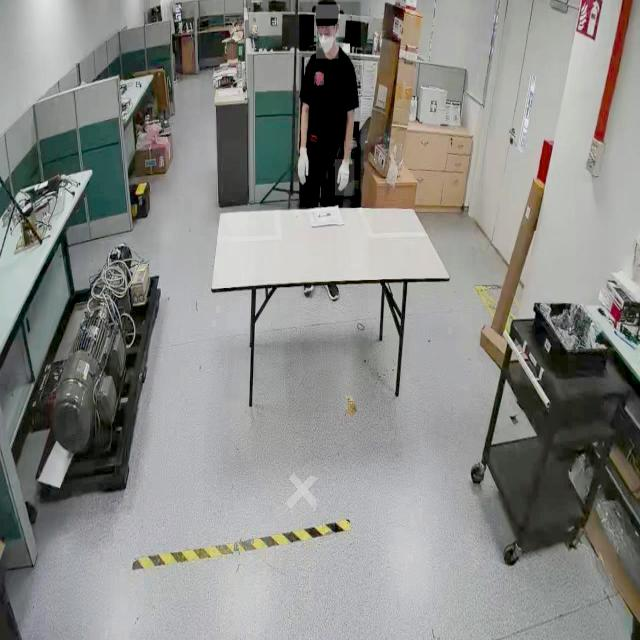face_mask: (316, 26, 338, 60)
hand_glove: (334, 159, 354, 197), (294, 143, 310, 190)
head_nohelmet: (315, 4, 340, 20)
person: (299, 2, 361, 208)
